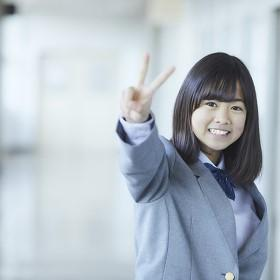tyoki: (119, 53, 176, 121)
